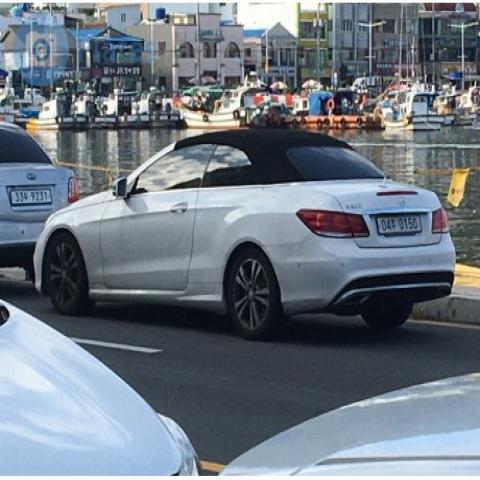LP: (366, 205, 436, 243)
